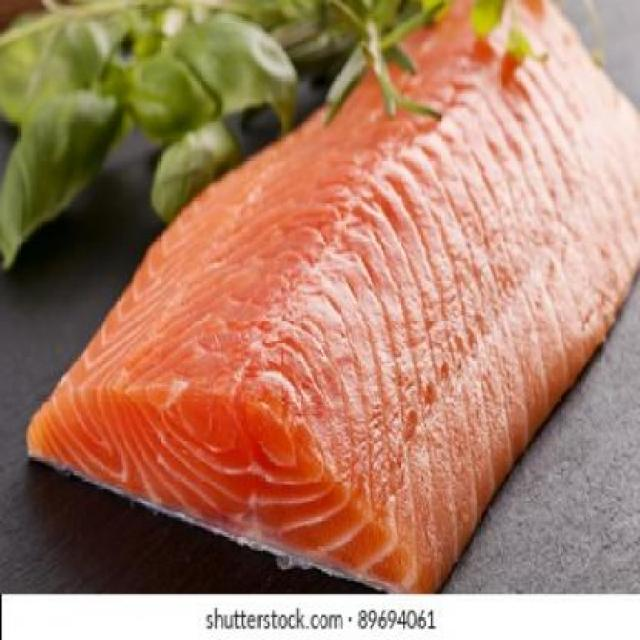salmon: (27, 4, 640, 590)
